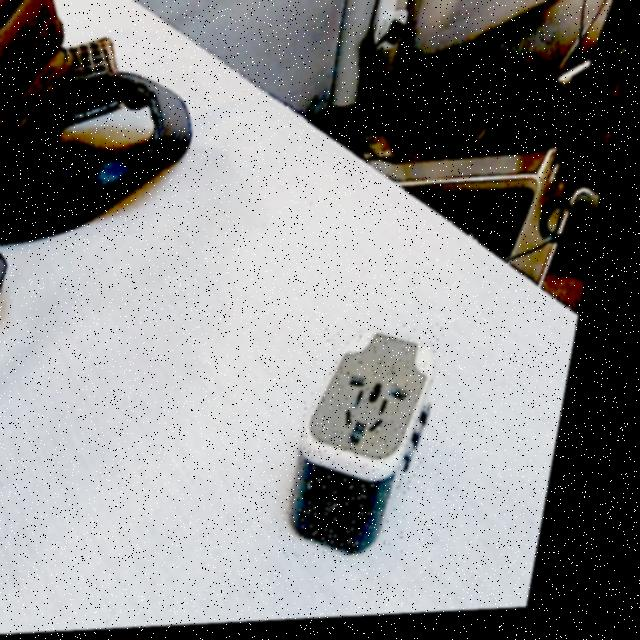adapter: (297, 328, 459, 563)
